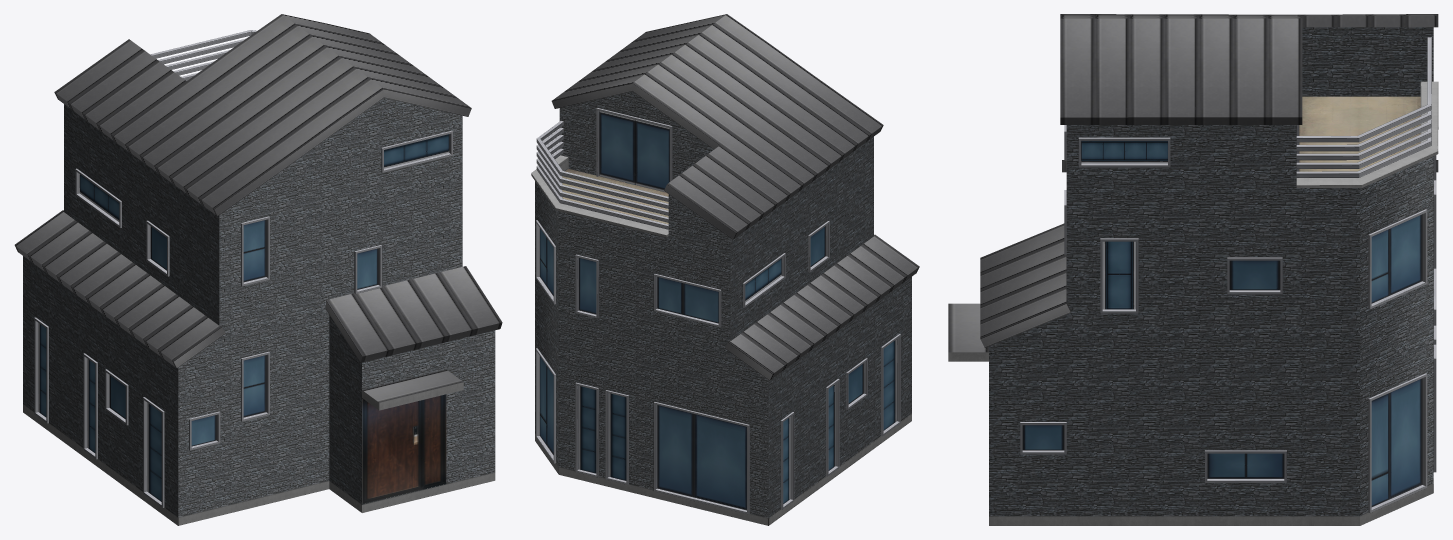
3 views of the same model, side by side, from view 1: azimuth 30°, elevation 25°; view 2: azimuth 150°, elevation 25°; view 3: azimuth 270°, elevation 25° (orthographic). The views are drawn at different scales.
Parts seen in each view (by area): view 1: MainBuilding; view 2: MainBuilding; view 3: MainBuilding.
Part boxes in pixels (<box>): MainBuilding: <box>14,14,502,525</box>; MainBuilding: <box>531,14,919,525</box>; MainBuilding: <box>948,14,1438,525</box>.
Bounding box in the file's own units: 0.9684 × 1.21 × 1.17.
1 material, 1 textured.
